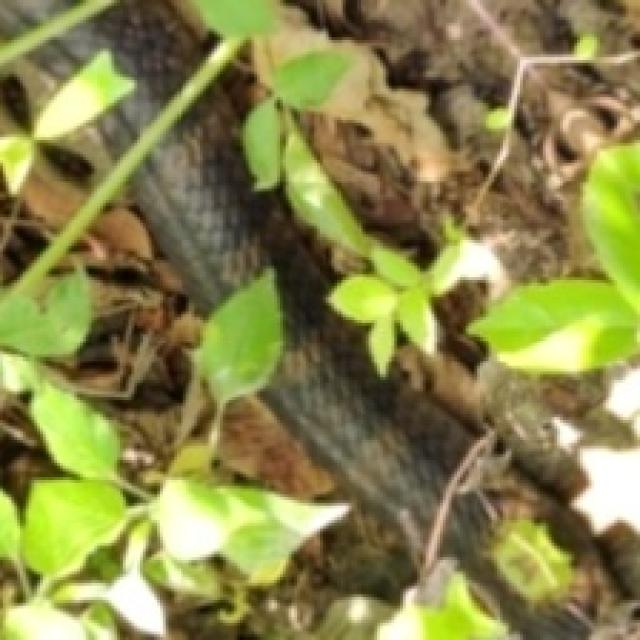king cobra: (0, 0, 637, 637), (0, 0, 214, 300), (283, 146, 466, 380), (0, 0, 77, 43)
